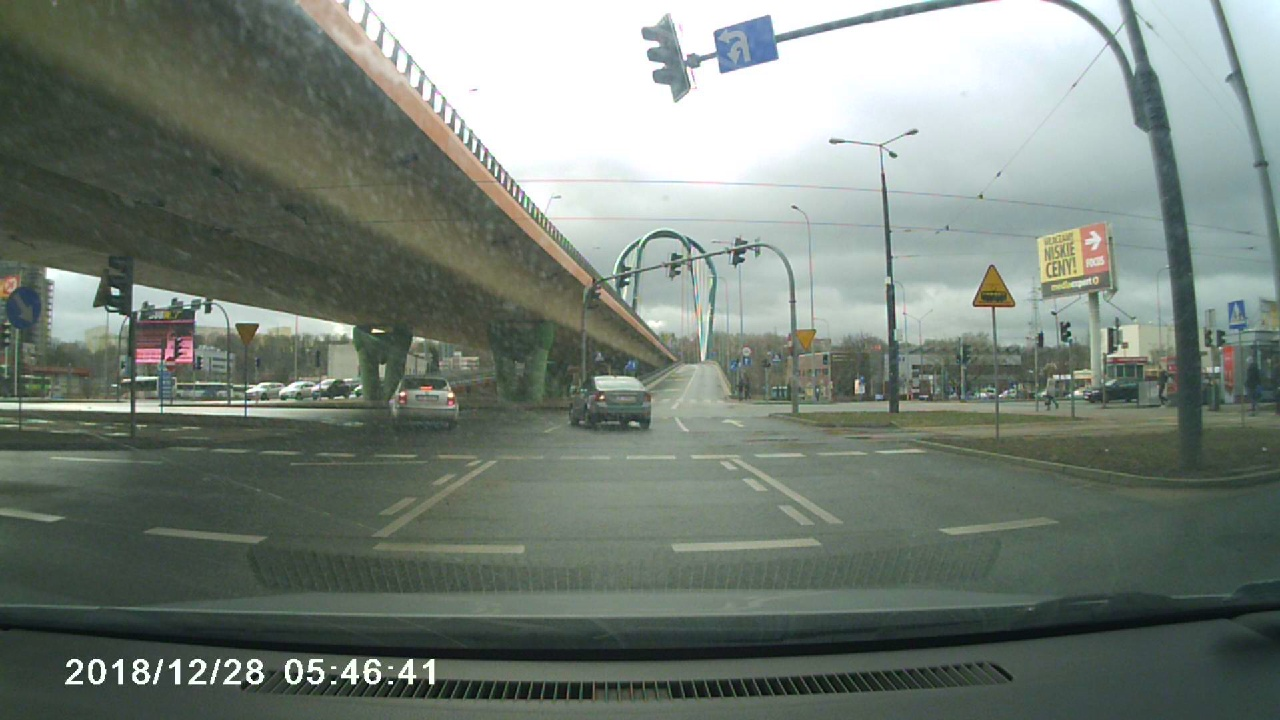A21: (971, 263, 1015, 311)
A7: (793, 328, 820, 353), (235, 318, 259, 345)
